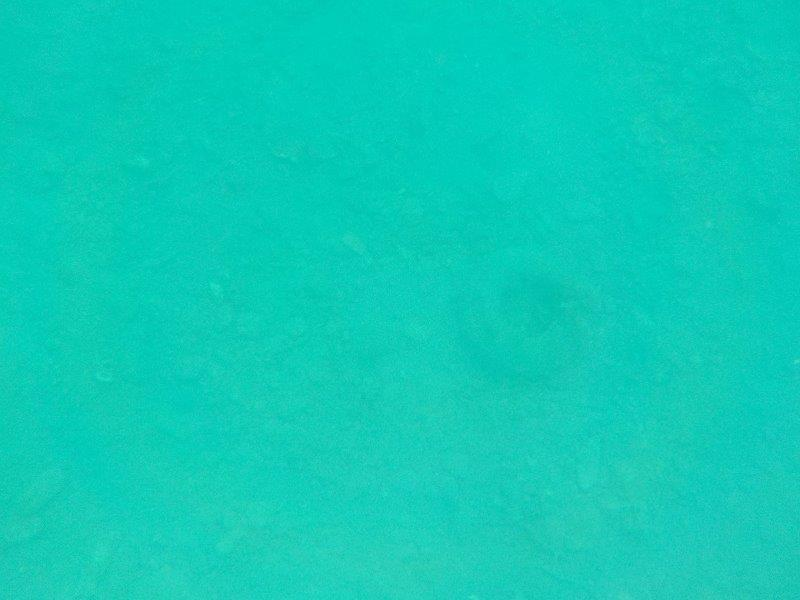tire: (457, 239, 601, 379)
